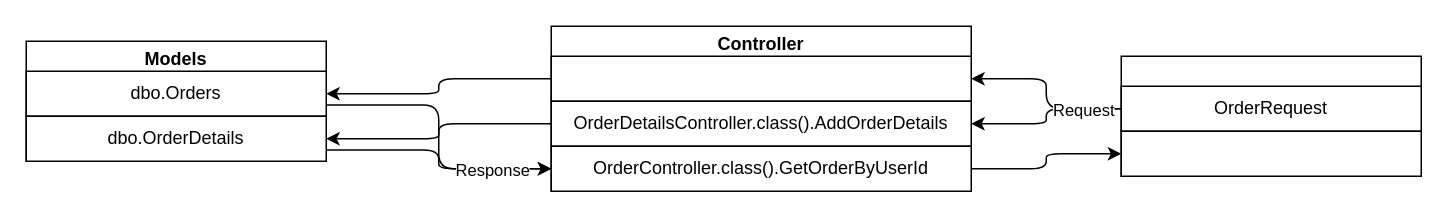
Image size: 1448x218. Some labels were removed from this diagram. The shapes that lost their labels are listed below. From the top down, each one's box as (x1, y1, x2, y2) in pixels, then its label:
(550, 55, 971, 101): OrderController.class().AddOrder
(1120, 55, 1421, 176): Views
(1120, 130, 1421, 176): OrderModule
